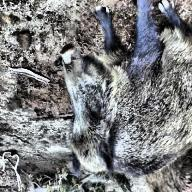boar: (48, 1, 192, 190)
